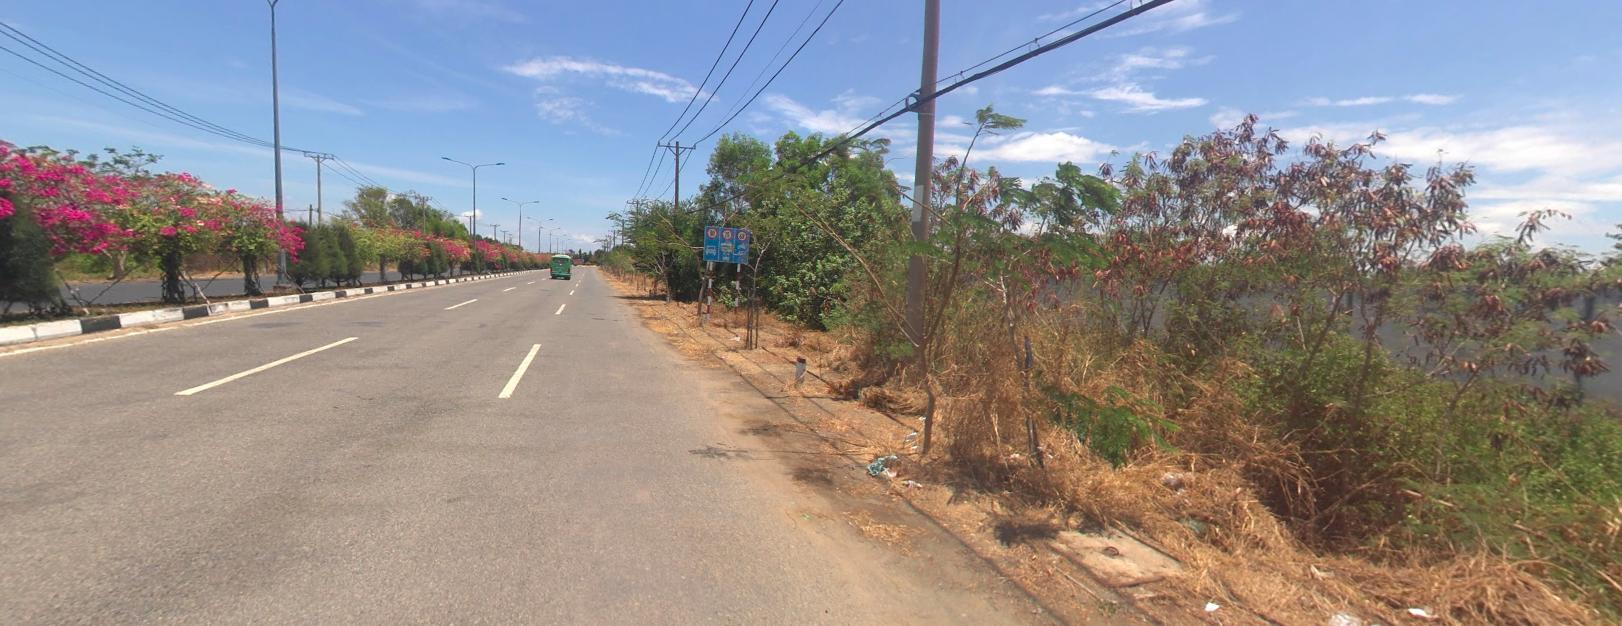Gioi han toc do: (705, 226, 717, 237), (721, 227, 731, 238), (735, 229, 747, 239)
